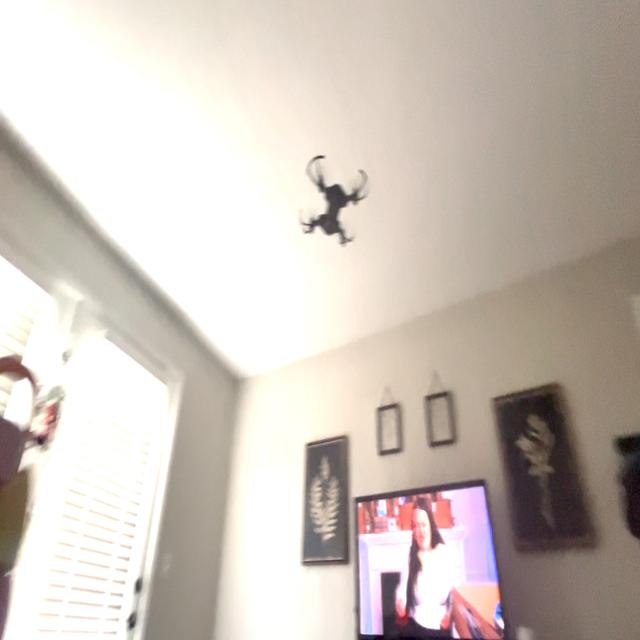drone: (278, 138, 378, 255)
